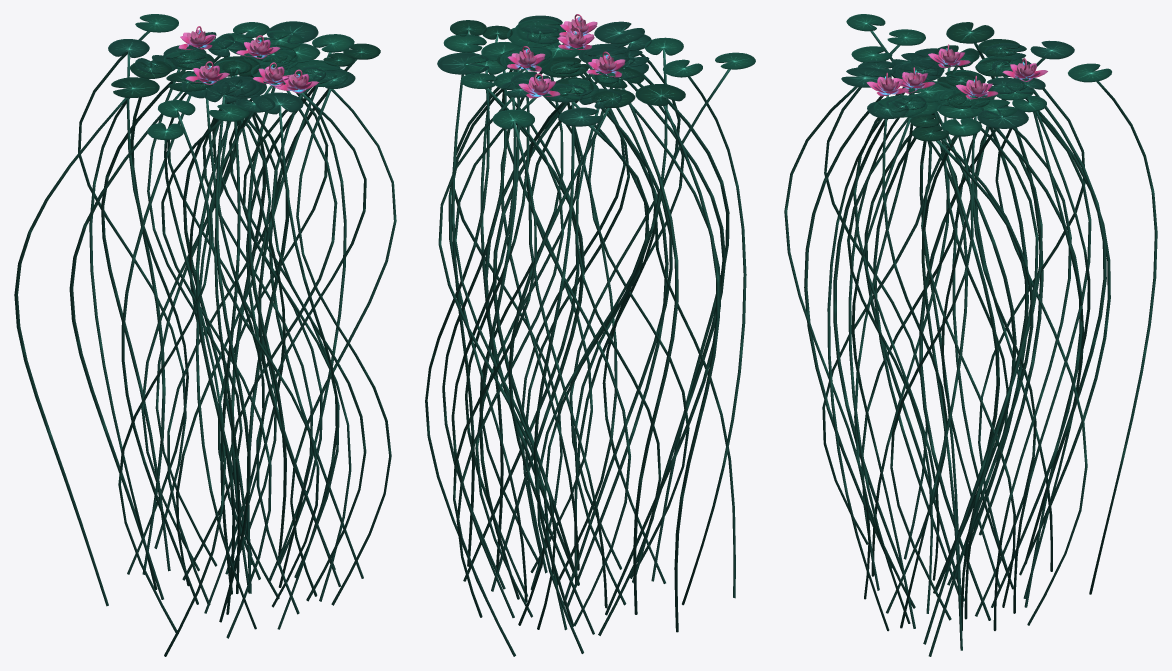
Rendered from Export_Flower_Water.fbx.
3 renders of one model, left to right at view 1: azimuth 30°, elevation 25°; view 2: azimuth 150°, elevation 25°; view 3: azimuth 270°, elevation 25°, orthographic. The views are drawn at different scales.
Visible parts, largest first — view 1: OBJ_Flower_Water_03_lod0, OBJ_Flower_Water_05_lod0, OBJ_Flower_Water_01_lod0, OBJ_Flower_Water_04_lod0, OBJ_Flower_Water_02_lod0; view 2: OBJ_Flower_Water_03_lod0, OBJ_Flower_Water_05_lod0, OBJ_Flower_Water_01_lod0, OBJ_Flower_Water_04_lod0, OBJ_Flower_Water_02_lod0; view 3: OBJ_Flower_Water_03_lod0, OBJ_Flower_Water_05_lod0, OBJ_Flower_Water_01_lod0, OBJ_Flower_Water_02_lod0, OBJ_Flower_Water_04_lod0.
Part boxes in pixels (x1,y1,x2,y2): OBJ_Flower_Water_03_lod0: (130,32,366,629); OBJ_Flower_Water_05_lod0: (14,14,351,656); OBJ_Flower_Water_01_lod0: (121,22,366,607); OBJ_Flower_Water_04_lod0: (69,43,396,638); OBJ_Flower_Water_02_lod0: (101,30,391,622); OBJ_Flower_Water_03_lod0: (438,14,680,634); OBJ_Flower_Water_05_lod0: (437,19,755,656); OBJ_Flower_Water_01_lod0: (454,27,720,629); OBJ_Flower_Water_04_lod0: (450,20,746,635); OBJ_Flower_Water_02_lod0: (425,15,729,626); OBJ_Flower_Water_03_lod0: (784,39,1106,644); OBJ_Flower_Water_05_lod0: (822,14,1157,628); OBJ_Flower_Water_01_lod0: (848,54,1087,625); OBJ_Flower_Water_02_lod0: (804,53,1110,650); OBJ_Flower_Water_04_lod0: (824,29,1085,656).
Size of what is drawn, in the model's own units: 580 by 975 by 608.
1 material, 1 textured.
